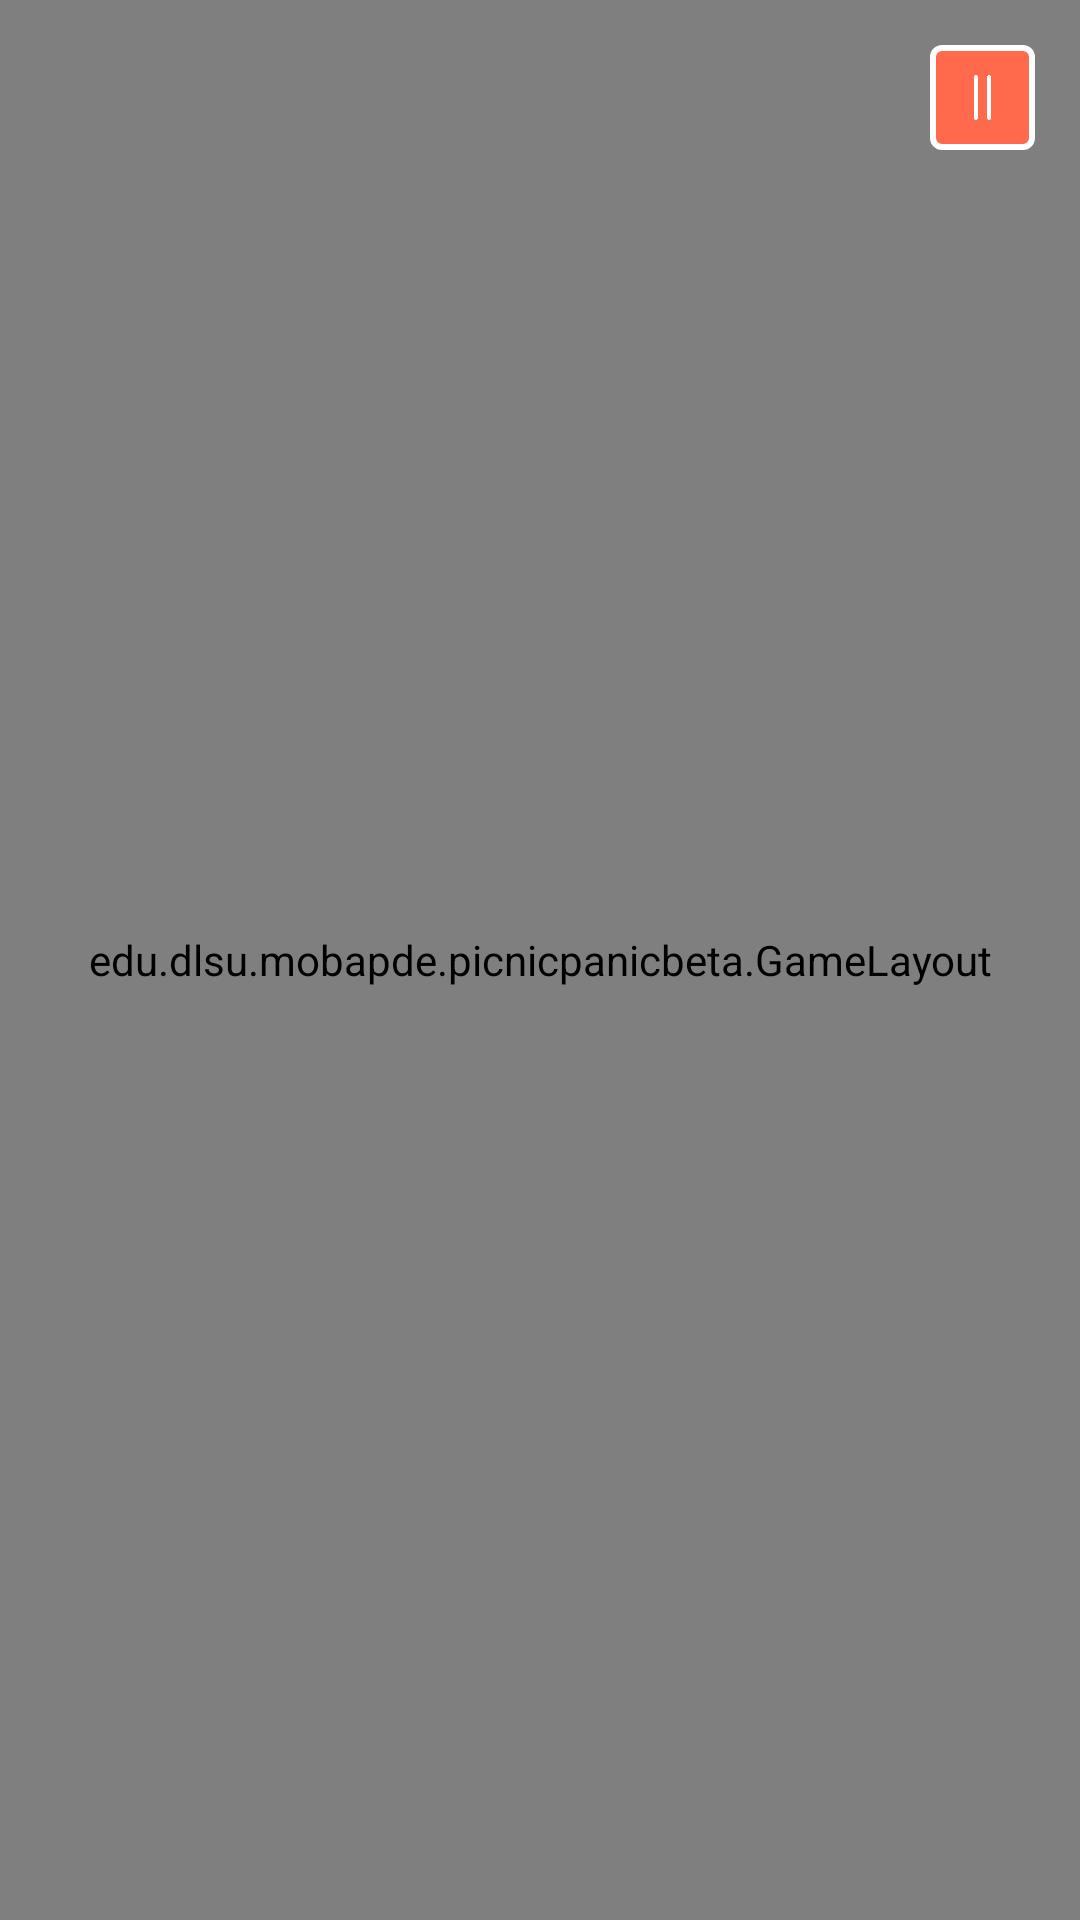

Screen size 1080 × 1920. Icon name, then its box in pixels as BBox(x1, y1, x2, y2):
pause: BBox(930, 45, 1035, 150)
